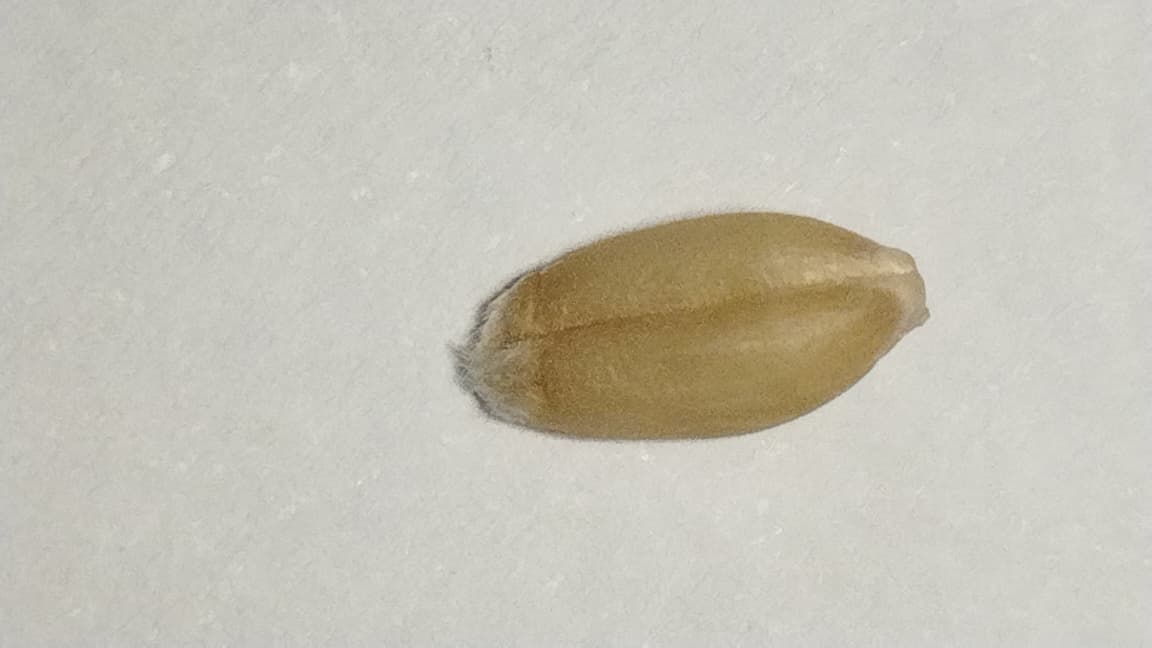healthy: (461, 213, 927, 436)
